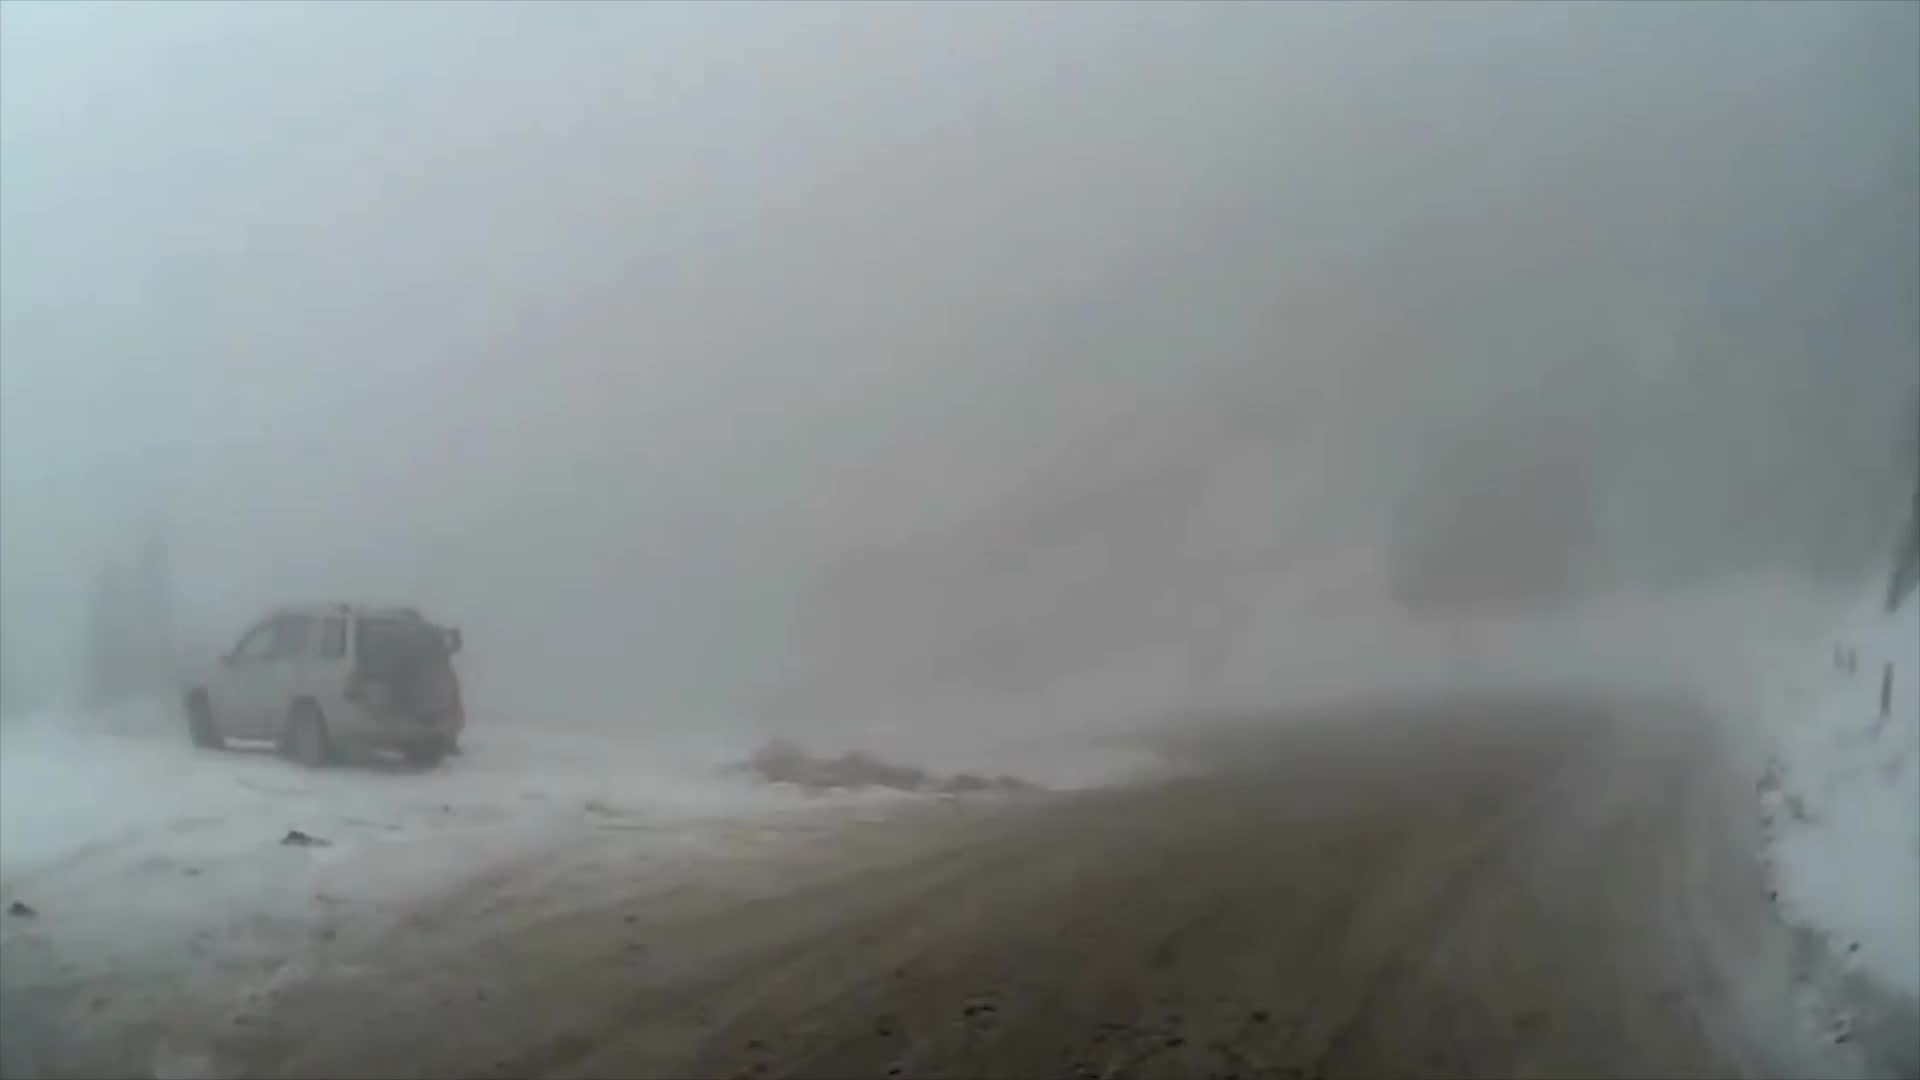vehicle: (186, 600, 462, 766)
